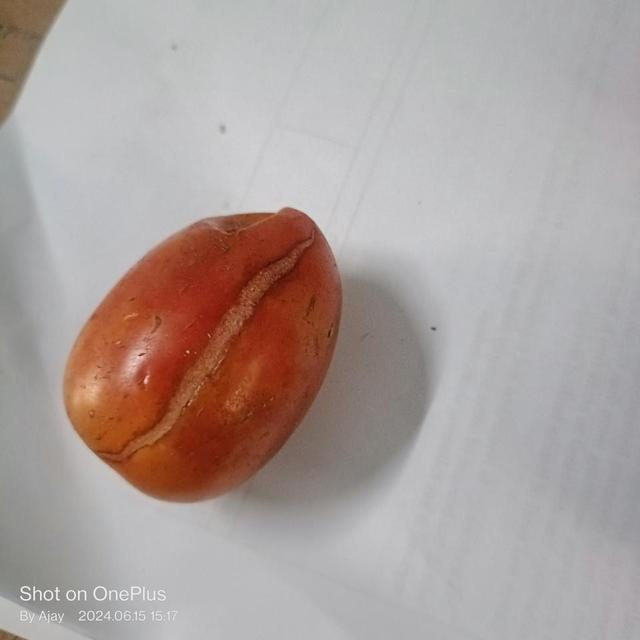Cracking Fruit: (59, 156, 218, 381)
